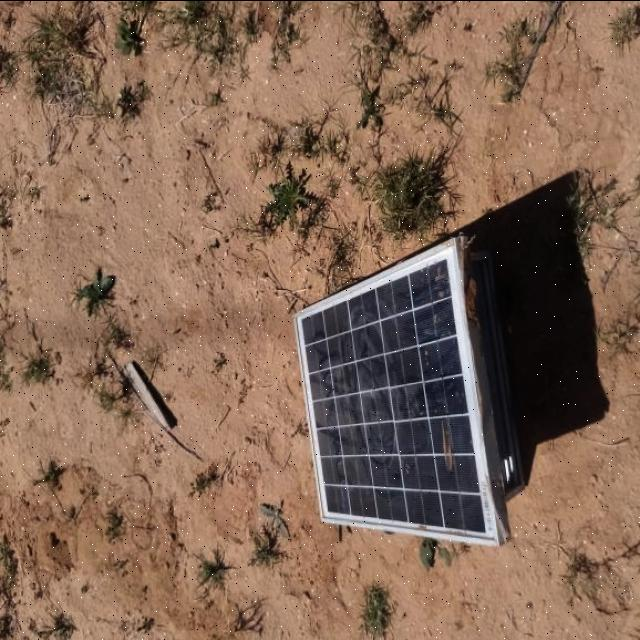Anomaly Solar Panel: (293, 250, 489, 535)
Surface Contaminant: (309, 308, 410, 496), (436, 407, 455, 472), (431, 262, 452, 294)
